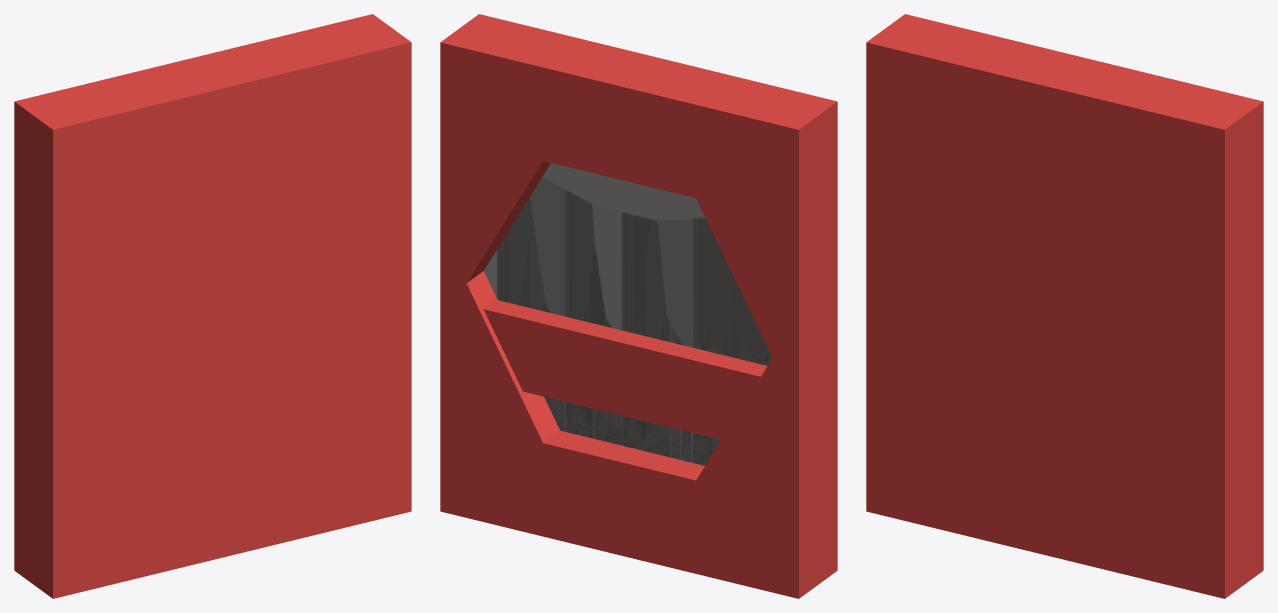
File: Dimond_short.fbx
3 renders of one model, left to right at view 1: azimuth 30°, elevation 25°; view 2: azimuth 150°, elevation 25°; view 3: azimuth 330°, elevation 25°, orthographic.
Parts seen in each view (by area): view 1: Cylinder.007; view 2: Cylinder.007; view 3: Cylinder.007.
Boxes of the visible parts, <box> form: Cylinder.007: <box>14,14,411,598</box>; Cylinder.007: <box>440,14,837,598</box>; Cylinder.007: <box>866,14,1263,598</box>.
Size of the model in its own units: 800 by 1000 by 150.
